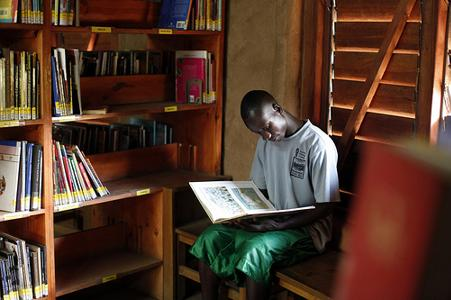person: (189, 88, 340, 299)
